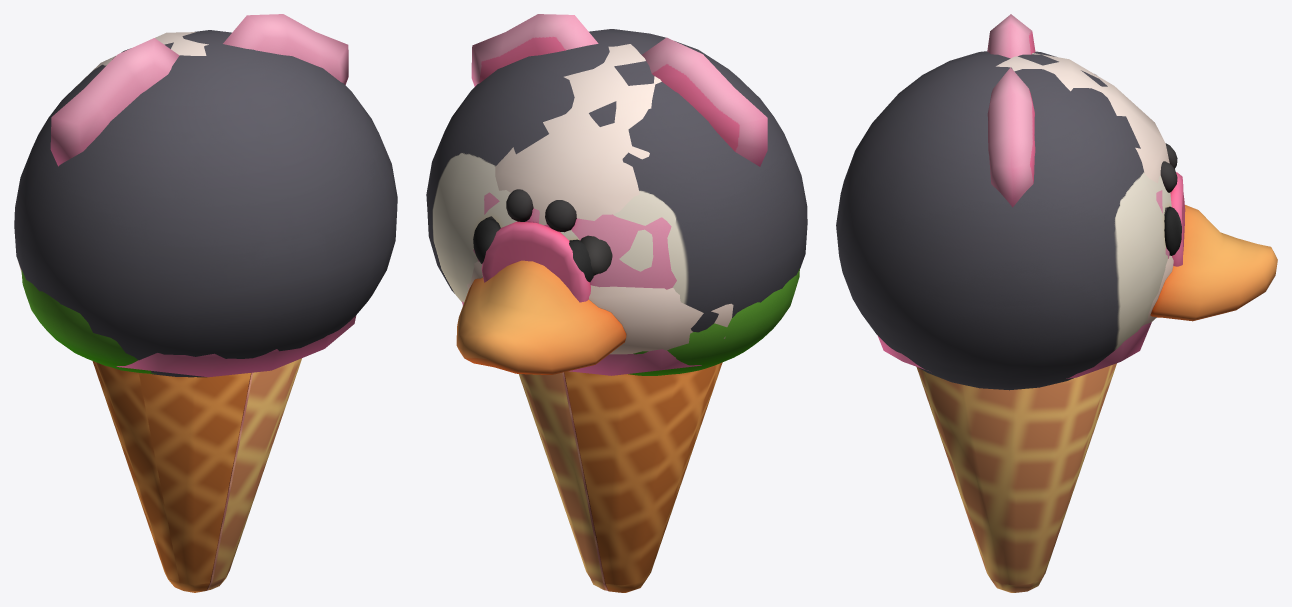
File: ice cream1.fbx
3 views of the same model, side by side, from view 1: azimuth 30°, elevation 25°; view 2: azimuth 150°, elevation 25°; view 3: azimuth 270°, elevation 25° (orthographic). The views are drawn at different scales.
Visible parts, largest first — view 1: cream3_, cream5_, cream4_, cream1_; view 2: cream3_, cream1_, cream4_, cream5_; view 3: cream3_, cream4_, cream1_.
Part boxes in pixels (left/top/right/bottom): cream3_: left=14, top=30, right=397, bottom=590; cream5_: left=21, top=270, right=250, bottom=592; cream4_: left=50, top=14, right=356, bottom=589; cream1_: left=18, top=32, right=251, bottom=590; cream3_: left=426, top=29, right=807, bottom=590; cream1_: left=456, top=44, right=733, bottom=590; cream4_: left=462, top=14, right=767, bottom=590; cream5_: left=564, top=268, right=799, bottom=592; cream3_: left=836, top=51, right=1181, bottom=390; cream4_: left=877, top=14, right=1185, bottom=592; cream1_: left=996, top=53, right=1277, bottom=325.
Size of the model in its own units: 98.37 by 155 by 114.
